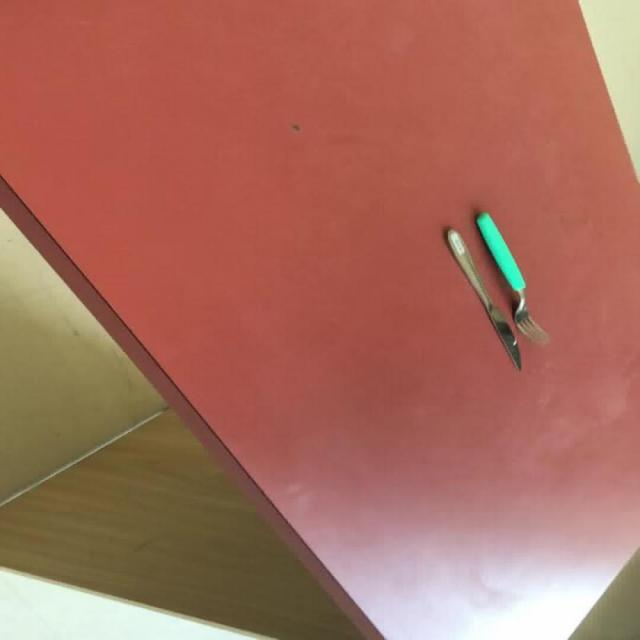Fork: (473, 210, 548, 342)
Knife: (442, 228, 520, 371)
